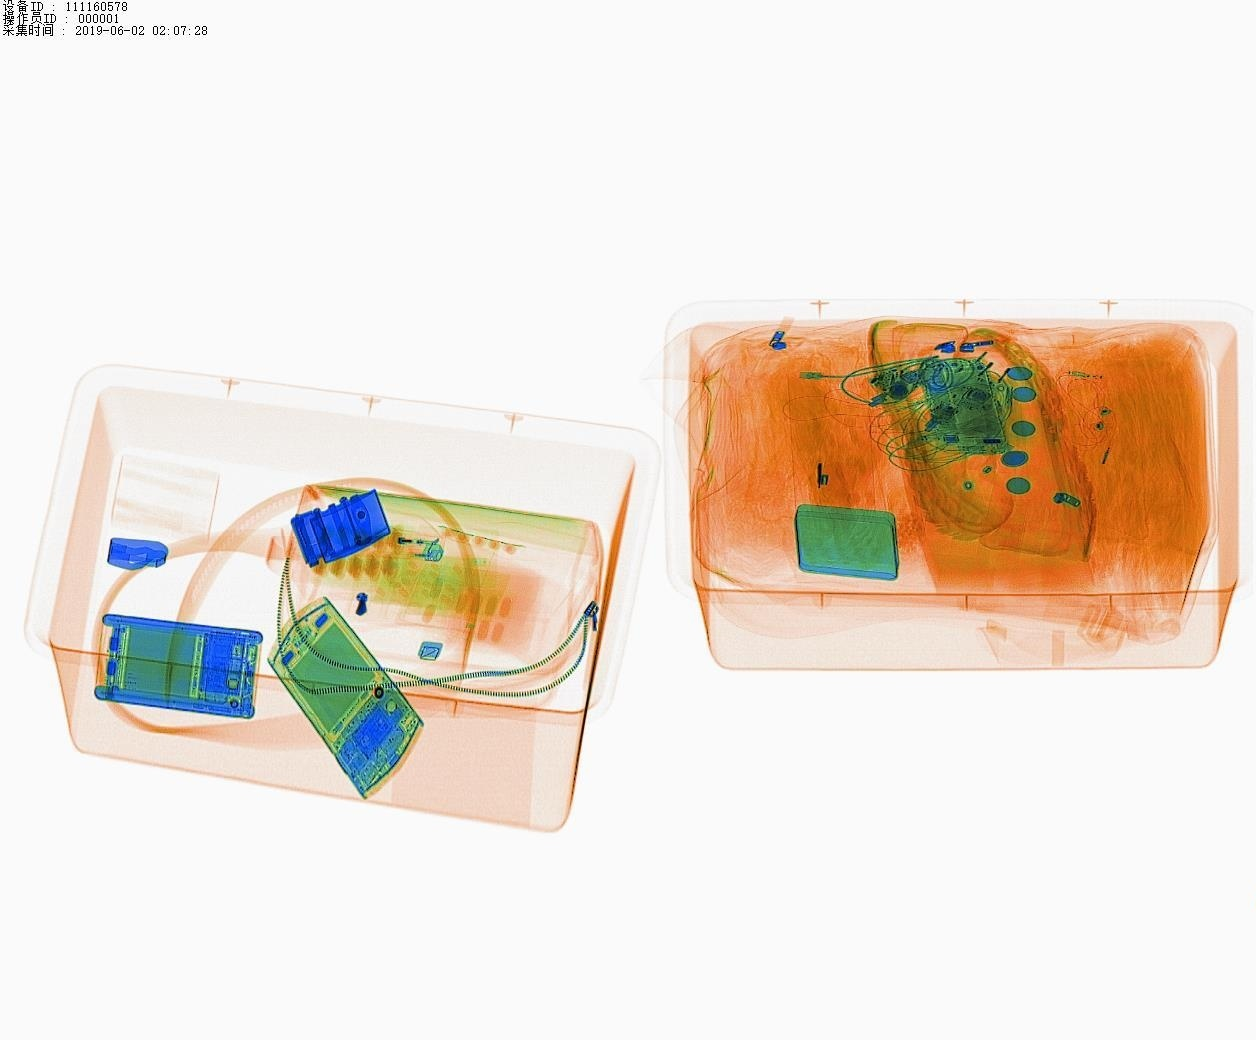NonmetallicFire: (345, 522, 466, 571)
